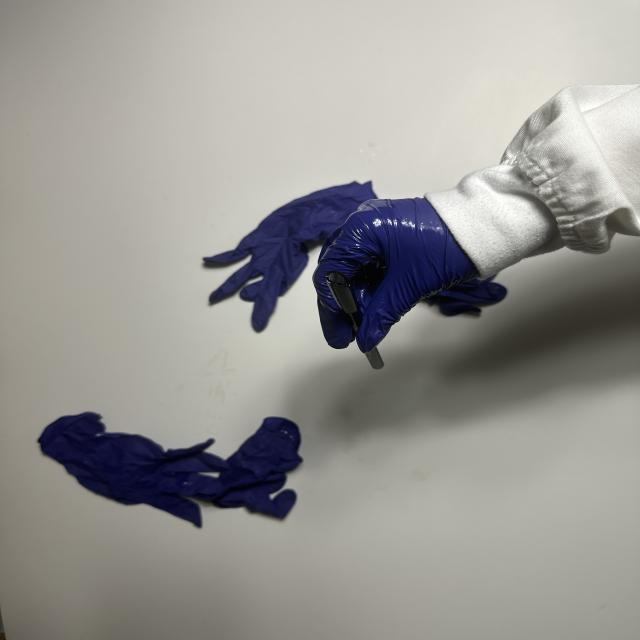gloves_contaminated: (314, 198, 478, 352)
